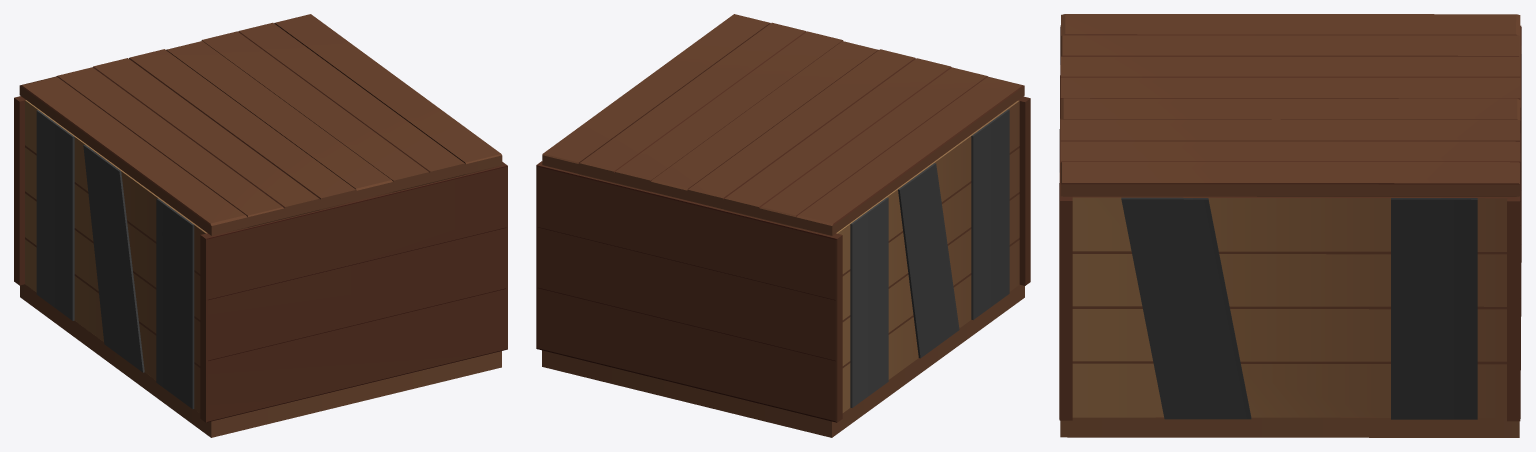
File: Small Wide Crate w_Lid#1.fbx
The picture shows the model from 3 angles, left to right: view 1: azimuth 30°, elevation 25°; view 2: azimuth 150°, elevation 25°; view 3: azimuth 270°, elevation 25°; orthographic projection. The views are drawn at different scales.
Parts seen in each view (by area): view 1: Small Wide Colored Crate w/Lid #1; view 2: Small Wide Colored Crate w/Lid #1; view 3: Small Wide Colored Crate w/Lid #1.
Part boxes in pixels (x1,y1,x2,y2): Small Wide Colored Crate w/Lid #1: (14,14,507,437); Small Wide Colored Crate w/Lid #1: (536,14,1030,437); Small Wide Colored Crate w/Lid #1: (1059,14,1521,437).
Size of the model in its own units: 131 by 215 by 194.
1 material, 1 textured.
